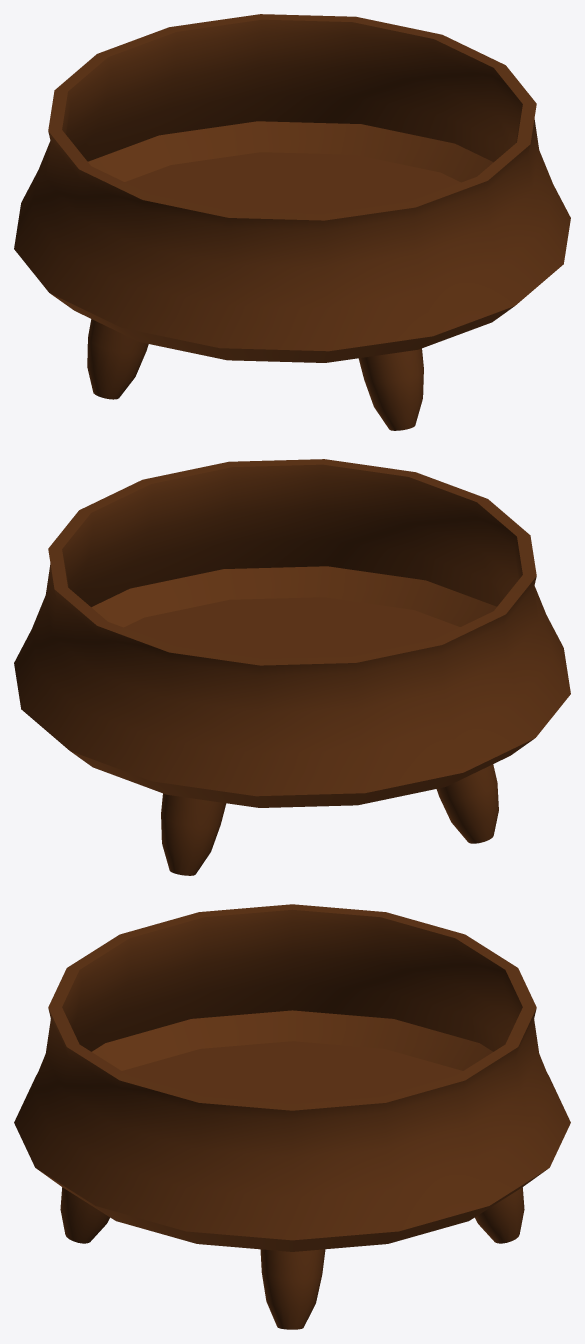
Rendered from comlek_2_saglam.fbx.
3 views of the same model, one above another, from view 1: azimuth 30°, elevation 25°; view 2: azimuth 150°, elevation 25°; view 3: azimuth 270°, elevation 25° (orthographic).
Parts seen in each view (by area): view 1: comlek_2_saglam; view 2: comlek_2_saglam; view 3: comlek_2_saglam.
Boxes of the visible parts, bbox=[...] form: comlek_2_saglam: bbox=[14, 14, 570, 430]; comlek_2_saglam: bbox=[14, 459, 570, 875]; comlek_2_saglam: bbox=[14, 904, 570, 1329].
Size of the model in its own units: 0.4748 by 0.2188 by 0.4748.
